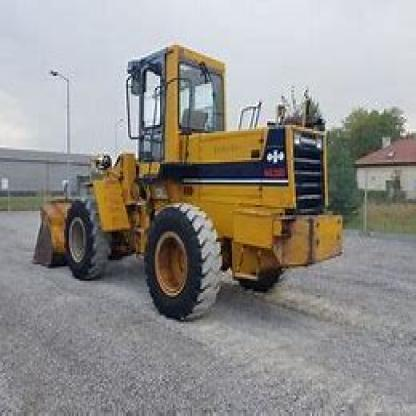bull_dozer/loader/grader: (24, 43, 355, 324)
